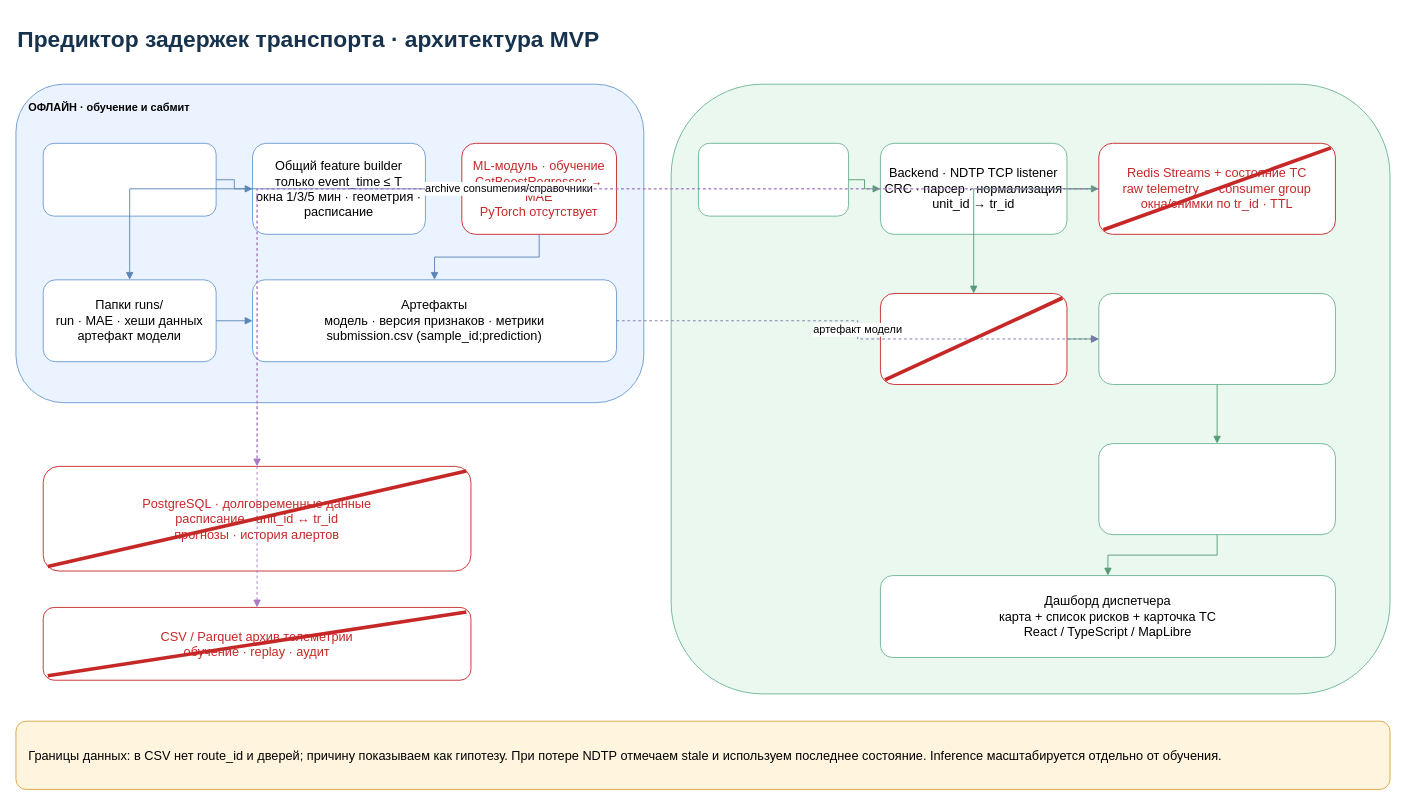
Some shapes in this 1406 by 805 pixel diagram are drawn without their labels. Here are the shapes that lost their labels. From the top down, the box of each, then its label:
(42, 142, 216, 216): CSV train/test/validate traffic · schedule · points/labels
(698, 142, 849, 216): NDTP-эмулятор TCP: handshake + Nav00
(880, 293, 1067, 384): Backend · feature builder скользящие окна, задержка, скорость, простой, ETA
(1098, 293, 1335, 384): ML-модуль · FastAPI inference CatBoost: задержка, сек риск P(delay > 120 c)
(670, 83, 1390, 694): ОНЛАЙН · непрерывный прогноз
(1098, 443, 1335, 535): Backend · API и replay Алерты в интерфейсе
